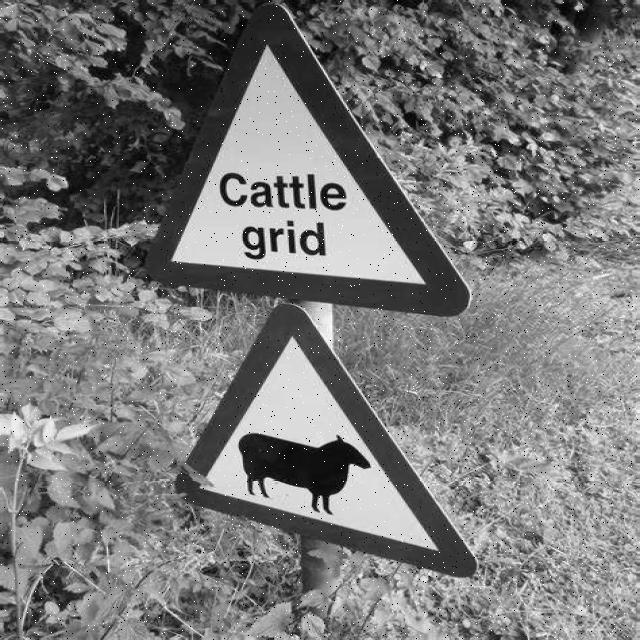cattle: (162, 13, 480, 581)
